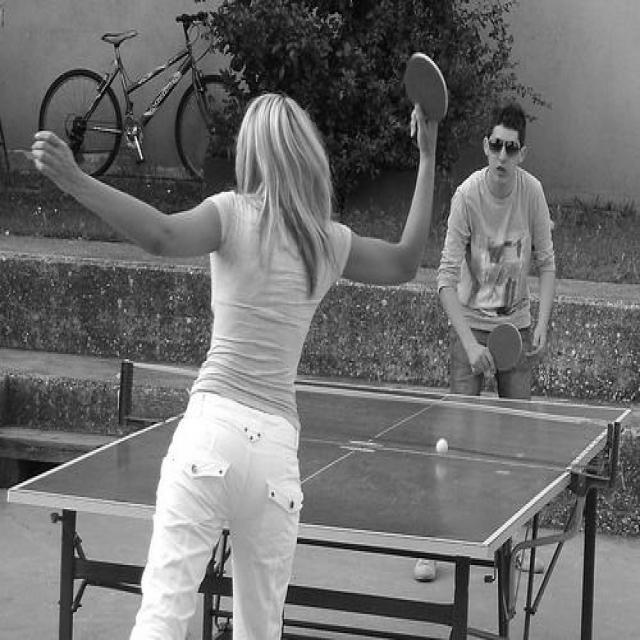ping-pong-ball: (434, 436, 450, 456)
